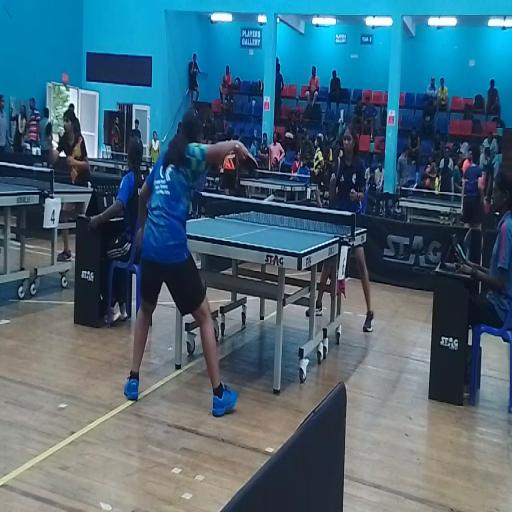ball: (261, 193, 278, 205)
